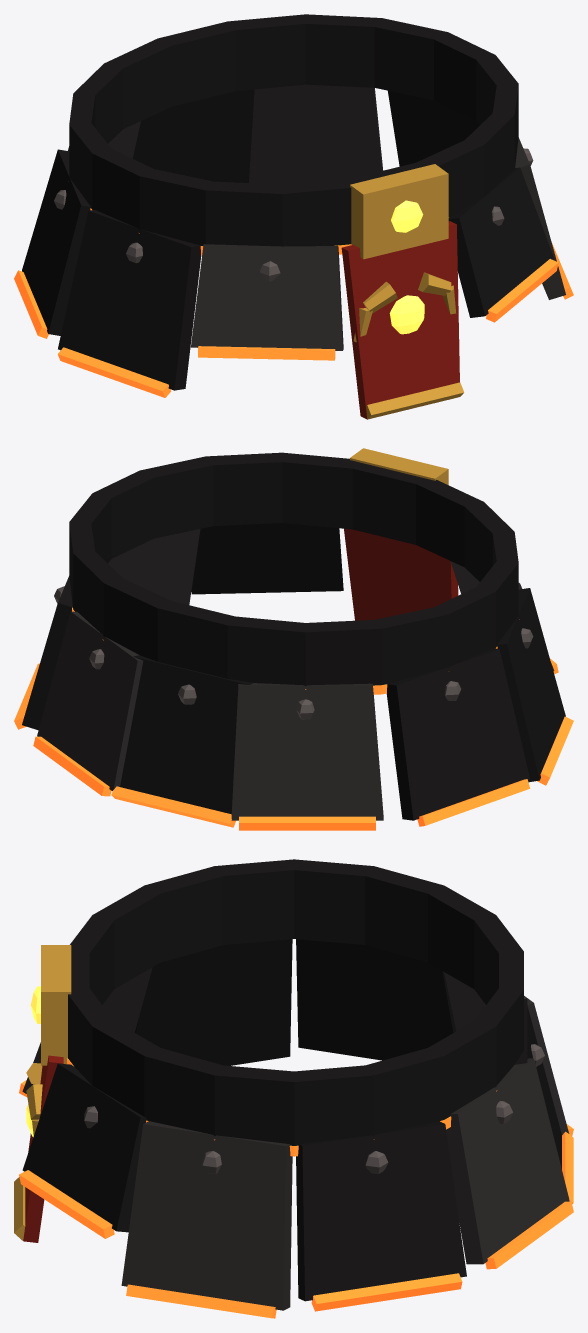
File: hearth_guard_fauld.glb
The picture shows the model from 3 angles, top to bottom: view 1: azimuth 30°, elevation 25°; view 2: azimuth 150°, elevation 25°; view 3: azimuth 270°, elevation 25°; orthographic projection. The views are drawn at different scales.
Parts seen in each view (by area): view 1: hearth_guard_fauld; view 2: hearth_guard_fauld; view 3: hearth_guard_fauld.
Boxes of the visible parts, x1,y1,x2,y2 form: hearth_guard_fauld: (14, 14, 573, 419); hearth_guard_fauld: (14, 448, 573, 830); hearth_guard_fauld: (14, 859, 573, 1318).
Bounding box in the file's own units: 1.27 × 0.5419 × 1.1.
